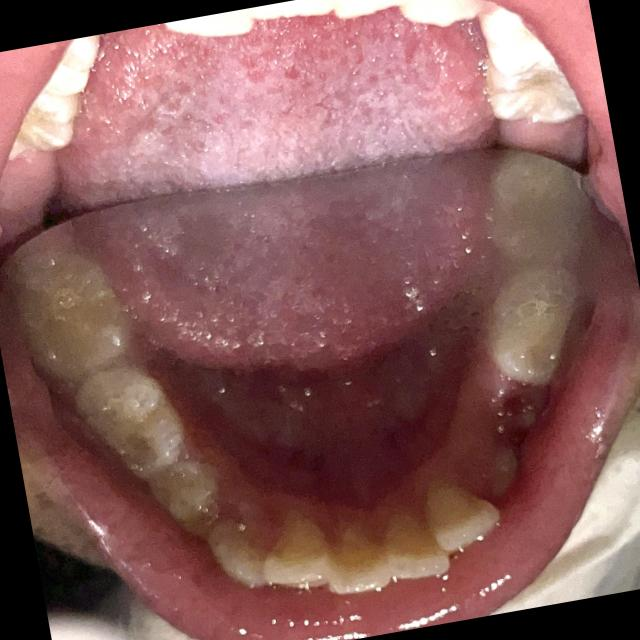tooth: (467, 241, 602, 405), (9, 238, 143, 392), (61, 349, 199, 490), (474, 136, 601, 278), (246, 493, 344, 612), (136, 448, 238, 548), (193, 495, 283, 604), (412, 463, 512, 558), (367, 493, 460, 593), (314, 511, 398, 606)
